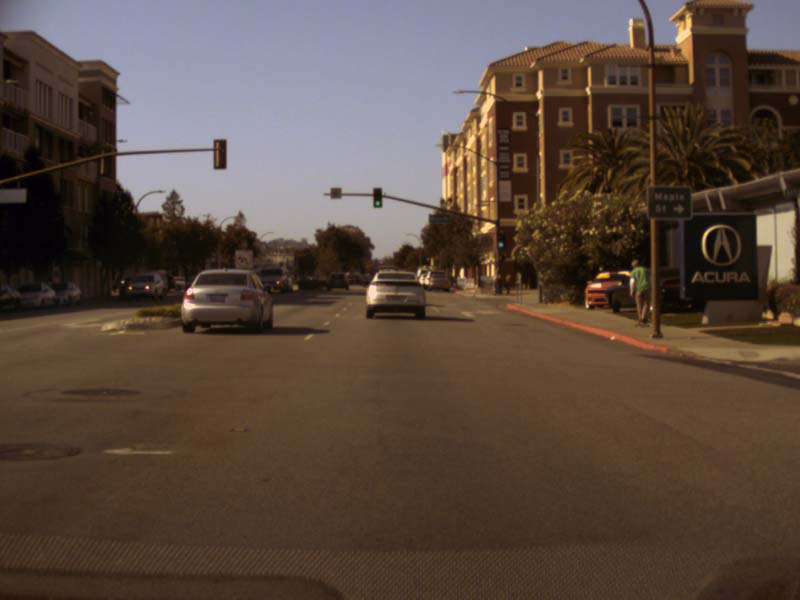Green: (373, 188, 381, 207), (498, 233, 504, 248)
